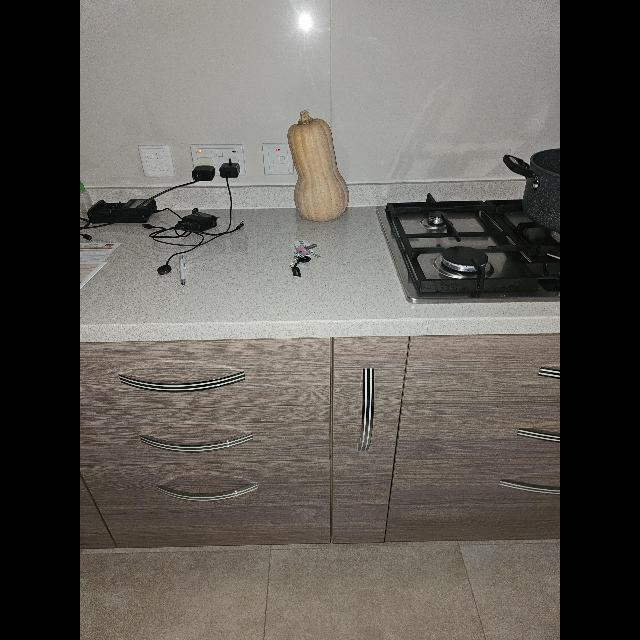Keys: (287, 244, 321, 276)
